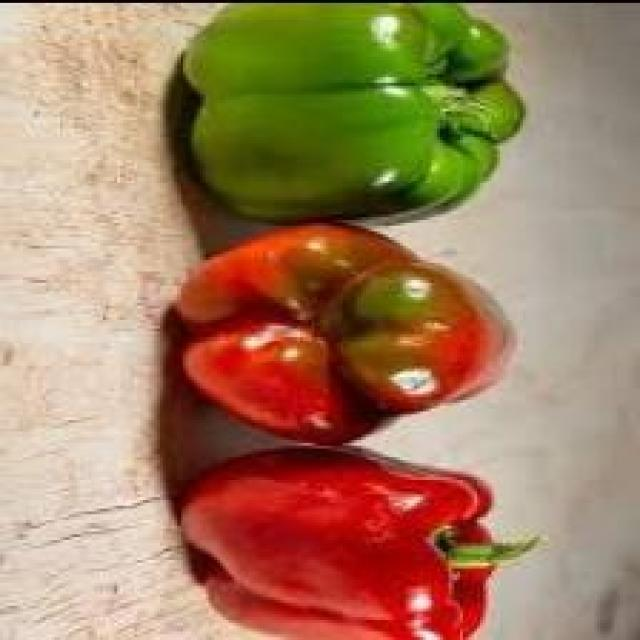Pepper: (177, 6, 526, 229), (171, 223, 506, 449), (174, 449, 534, 640)
